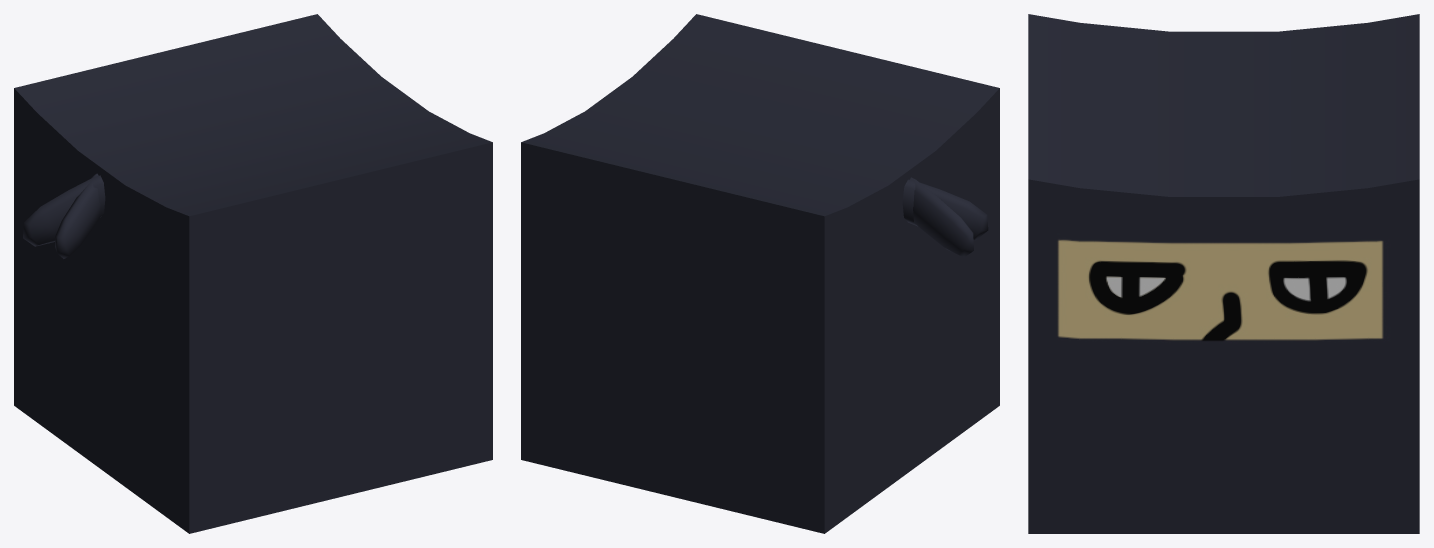
File: ninja.fbx
The picture shows the model from 3 angles, left to right: view 1: azimuth 30°, elevation 25°; view 2: azimuth 150°, elevation 25°; view 3: azimuth 270°, elevation 25°; orthographic projection. The views are drawn at different scales.
Parts seen in each view (by area): view 1: Cube.001; view 2: Cube.001; view 3: Cube.001.
Boxes of the visible parts, left/top/right/bottom form: Cube.001: left=14, top=14, right=492, bottom=533; Cube.001: left=521, top=14, right=999, bottom=533; Cube.001: left=1028, top=14, right=1419, bottom=533.
Bounding box in the file's own units: 246 × 200 × 200.
1 material, 1 textured.
